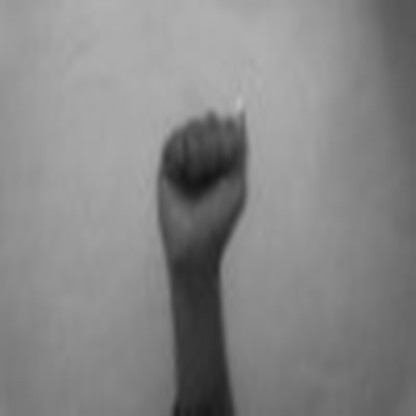a: (144, 93, 255, 257)
